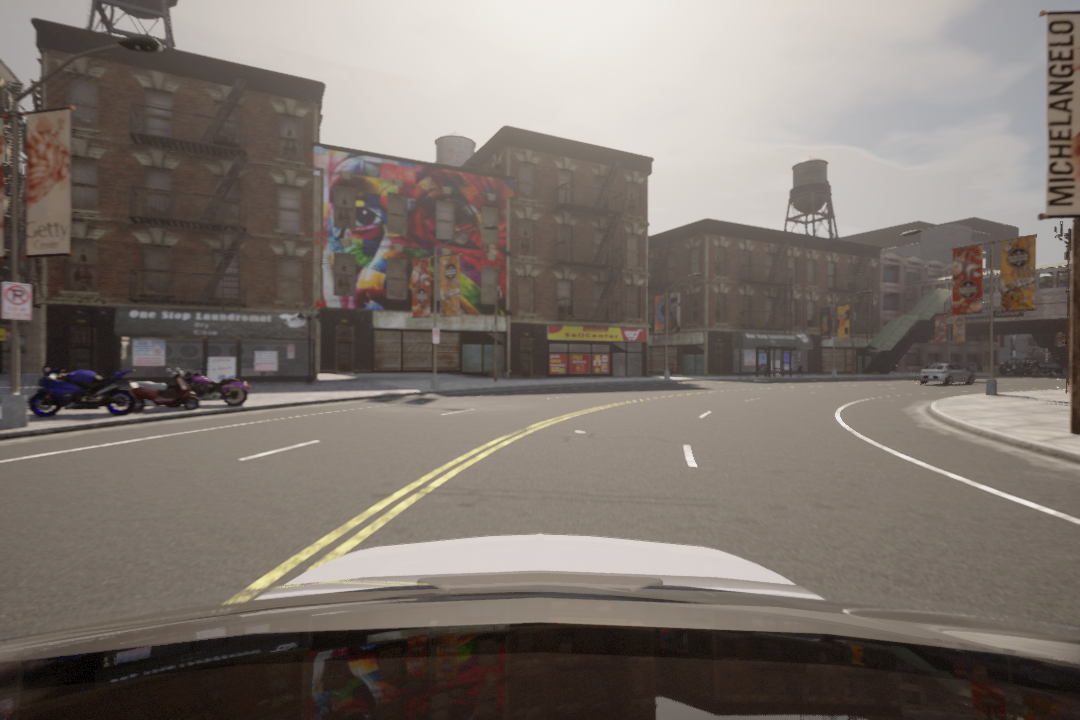TrafficSign_nstop: (1, 281, 34, 322)
